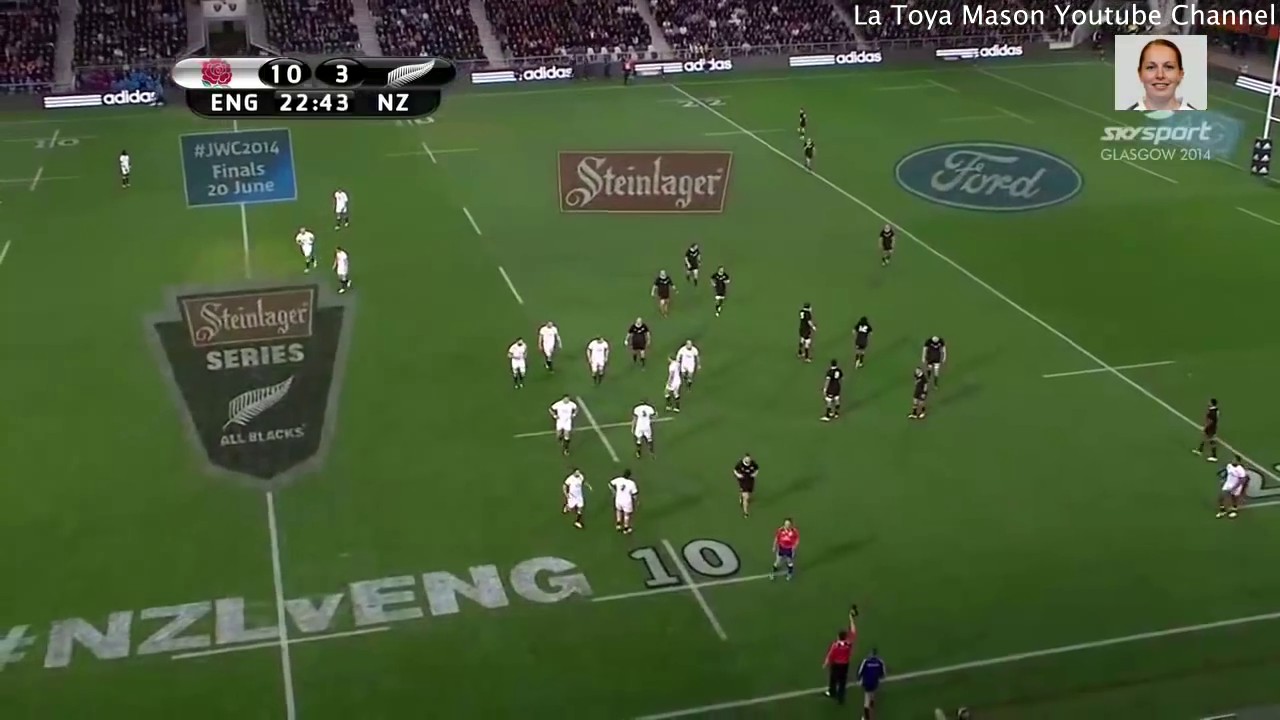10_metre: (581, 529, 791, 648), (503, 389, 693, 467), (1, 120, 99, 157), (384, 138, 482, 167), (1, 161, 82, 196), (364, 101, 448, 127)
player: (822, 601, 859, 717), (1210, 444, 1255, 524), (602, 462, 645, 543), (553, 464, 593, 540), (540, 388, 581, 460), (852, 639, 889, 717), (577, 331, 616, 396), (1190, 390, 1220, 473), (813, 353, 846, 427), (623, 396, 661, 460), (769, 513, 801, 586), (500, 332, 534, 396), (915, 330, 947, 398), (731, 449, 761, 521), (289, 221, 322, 283), (325, 244, 361, 300), (621, 313, 654, 374), (791, 299, 819, 369), (533, 316, 565, 376), (646, 266, 676, 322), (850, 309, 873, 375), (907, 361, 932, 421), (111, 140, 137, 197), (680, 236, 705, 291), (330, 186, 358, 232), (874, 219, 897, 269), (711, 265, 730, 322), (798, 135, 820, 177), (791, 104, 809, 142)
